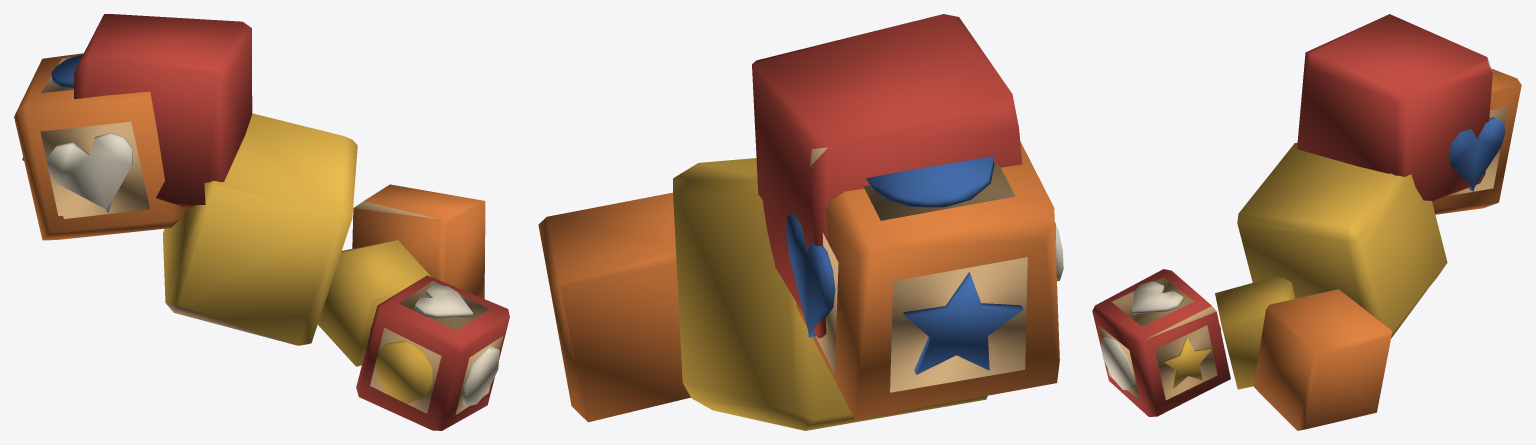
Rendered from den_toy_pile_lod2.glb.
The picture shows the model from 3 angles, left to right: view 1: azimuth 30°, elevation 25°; view 2: azimuth 150°, elevation 25°; view 3: azimuth 270°, elevation 25°; orthographic projection. The views are drawn at different scales.
Visible parts, largest first — view 1: den_toy_pile.001; view 2: den_toy_pile.001; view 3: den_toy_pile.001.
Boxes of the visible parts, x1,y1,x2,y2 form: den_toy_pile.001: [14, 14, 509, 430]; den_toy_pile.001: [538, 14, 1063, 430]; den_toy_pile.001: [1092, 14, 1521, 430].
Bounding box in the file's own units: 6.53 × 4.84 × 6.58.
